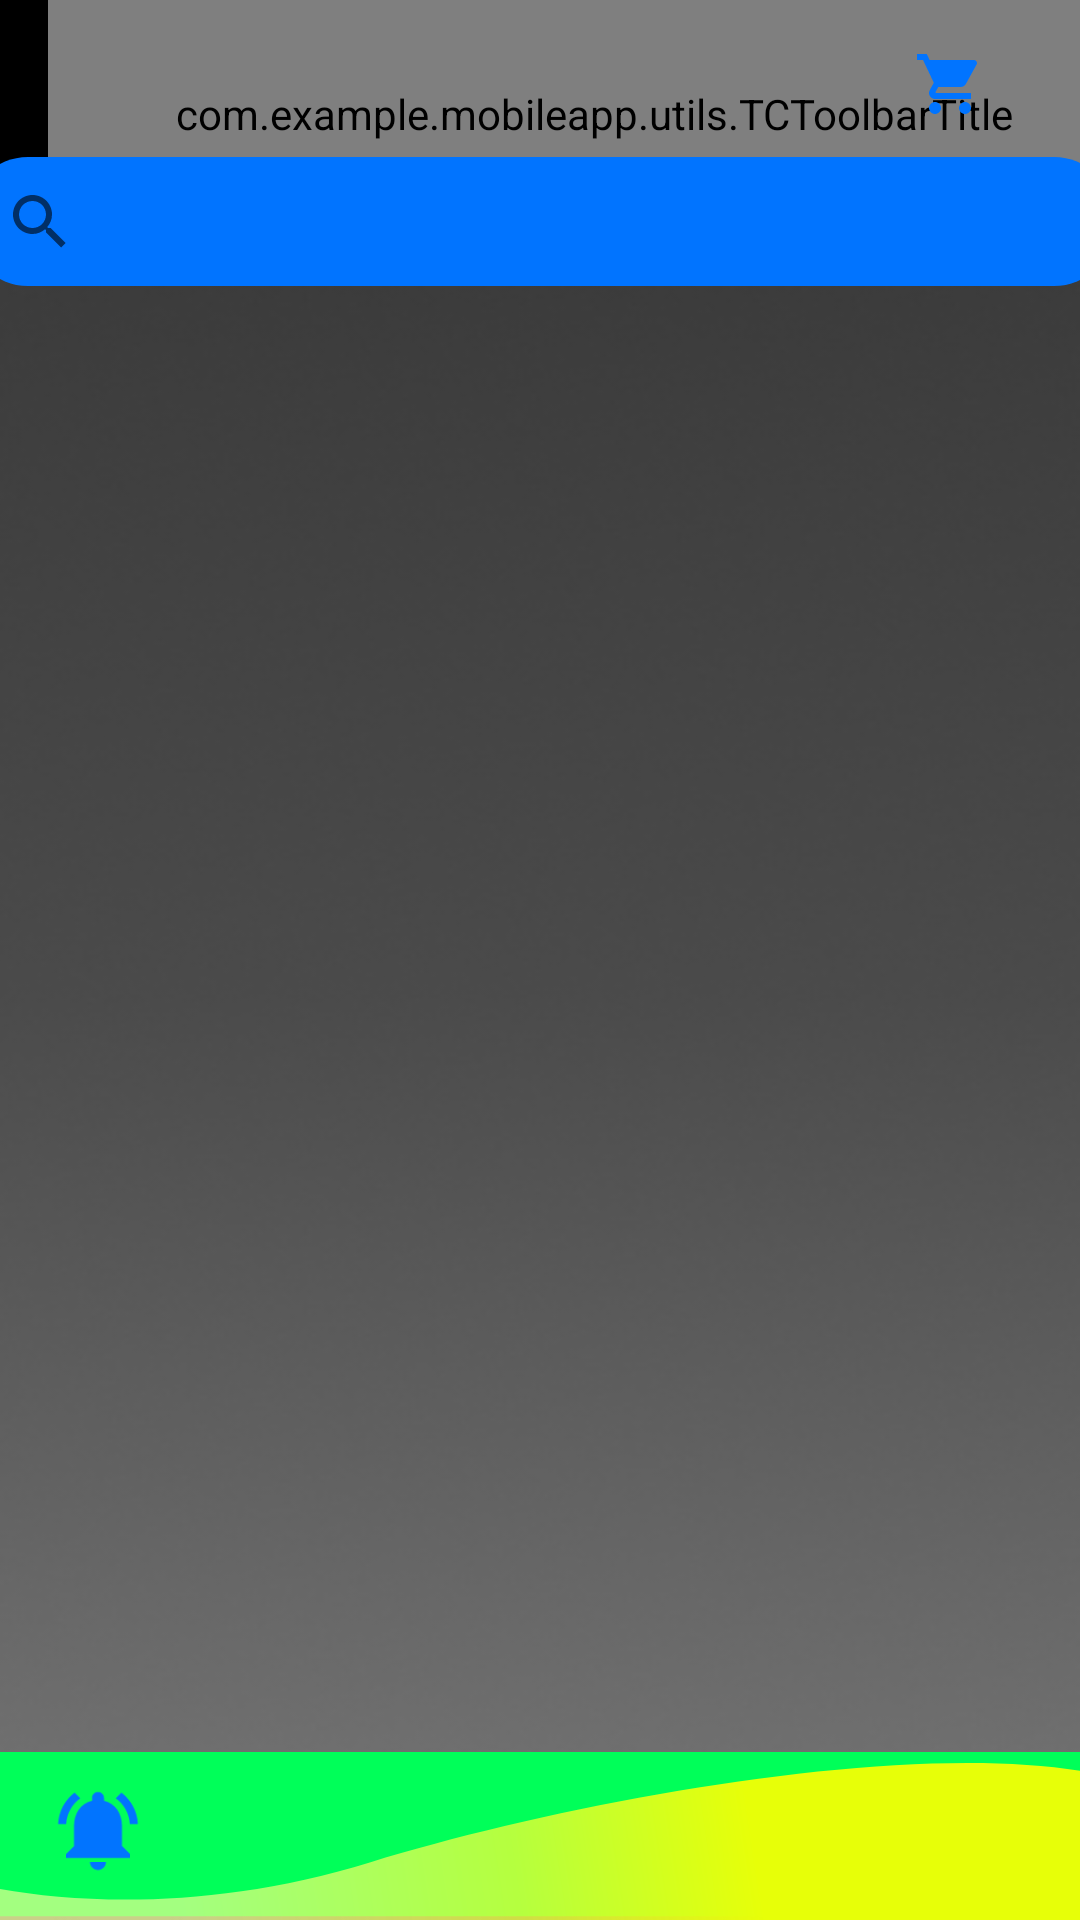

Icon click points for this 1080px×1920px phone screenshot, format (x,y):
notifications: (98,1831)
shopping cart: (947,76)
